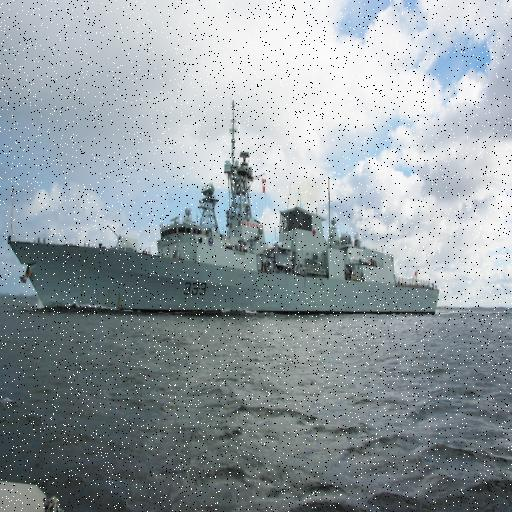Fragata: (5, 94, 444, 319)
